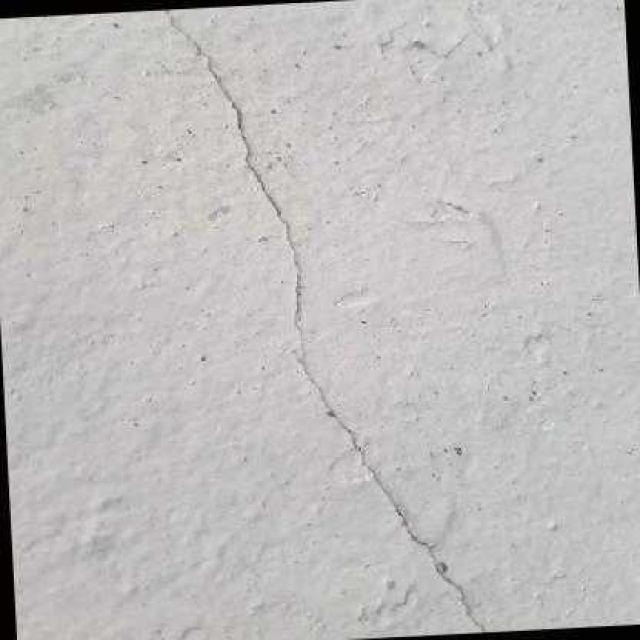D00: (156, 7, 494, 632)
